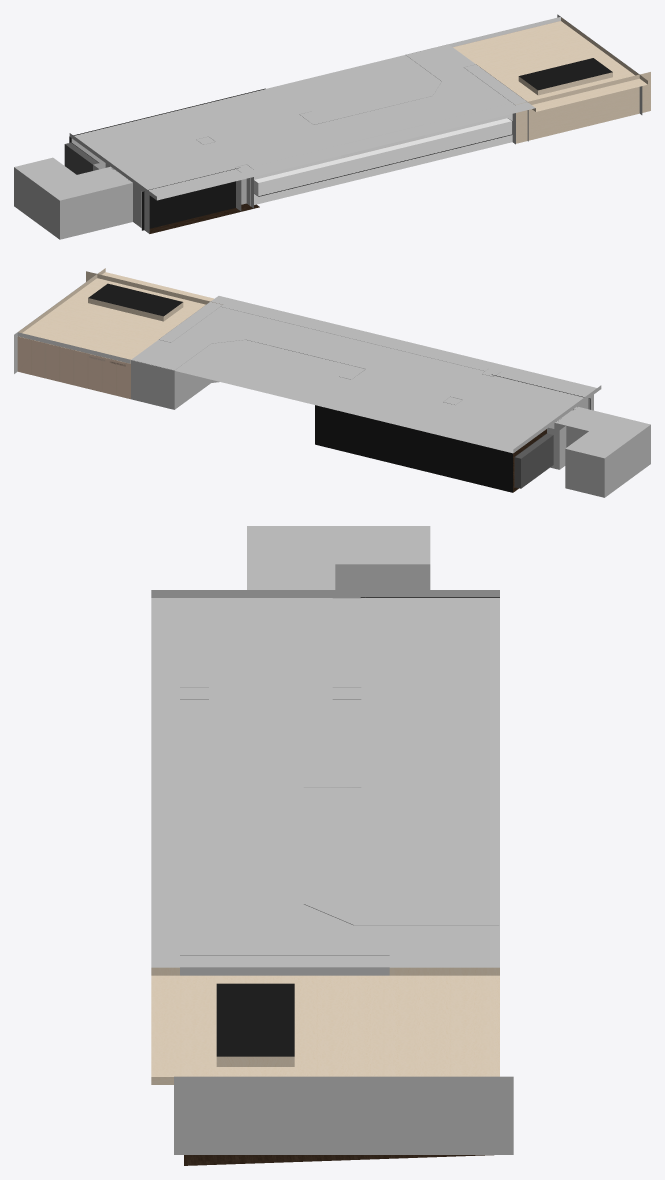
The model's file is salaSensaciones.FBX.
3 views of the same model, one above another, from view 1: azimuth 30°, elevation 25°; view 2: azimuth 150°, elevation 25°; view 3: azimuth 270°, elevation 25° (orthographic). The views are drawn at different scales.
Parts seen in each view (by area): view 1: salaSensaciones, videoWall_tactil, vitrinaCamisetas, videoWall_jugadores; view 2: salaSensaciones, videoWall_jugadores, vitrinaCamisetas; view 3: salaSensaciones.
Boxes of the visible parts, x1,y1,x2,y2 form: salaSensaciones: (14, 14, 650, 239); videoWall_tactil: (141, 167, 239, 230); vitrinaCamisetas: (64, 142, 98, 174); videoWall_jugadores: (69, 88, 265, 162); salaSensaciones: (14, 268, 650, 497); videoWall_jugadores: (315, 405, 512, 492); vitrinaCamisetas: (514, 433, 553, 488); salaSensaciones: (151, 526, 513, 1165).
Size of what is drawn, in the model's own units: 1817 by 129 by 496.
